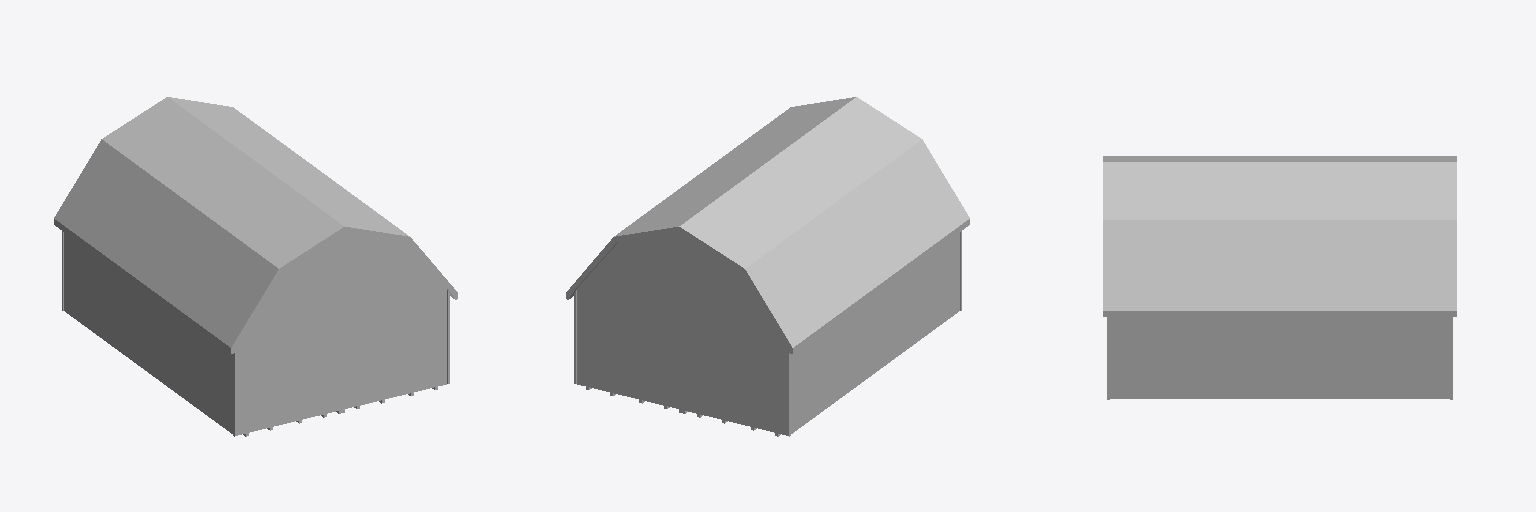
File: Two Story Double Wide Garage_20x32.obj
3 views of the same model, side by side, from view 1: azimuth 30°, elevation 25°; view 2: azimuth 150°, elevation 25°; view 3: azimuth 270°, elevation 25° (orthographic).
Visible parts, largest first — view 1: Two Story Double Wide Garage_20x32.obj; view 2: Two Story Double Wide Garage_20x32.obj; view 3: Two Story Double Wide Garage_20x32.obj.
Part boxes in pixels (bbox=[...]): Two Story Double Wide Garage_20x32.obj: bbox=[54, 97, 457, 436]; Two Story Double Wide Garage_20x32.obj: bbox=[566, 97, 969, 436]; Two Story Double Wide Garage_20x32.obj: bbox=[1103, 156, 1456, 399].
Bounding box in the file's own units: 7.43 × 5.91 × 10.06.